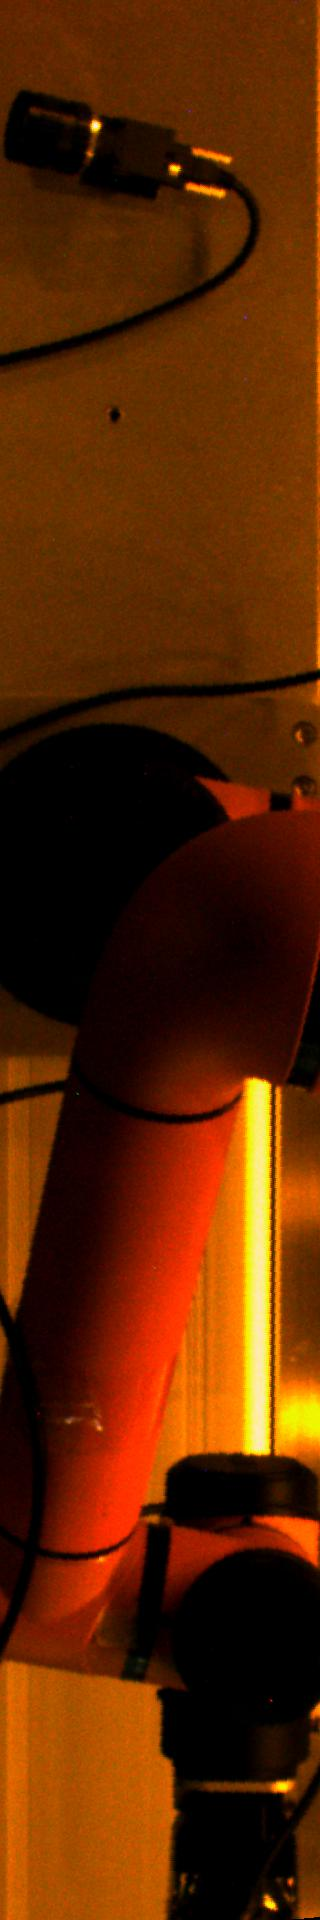keyPoint_2: (99, 400, 129, 431)
